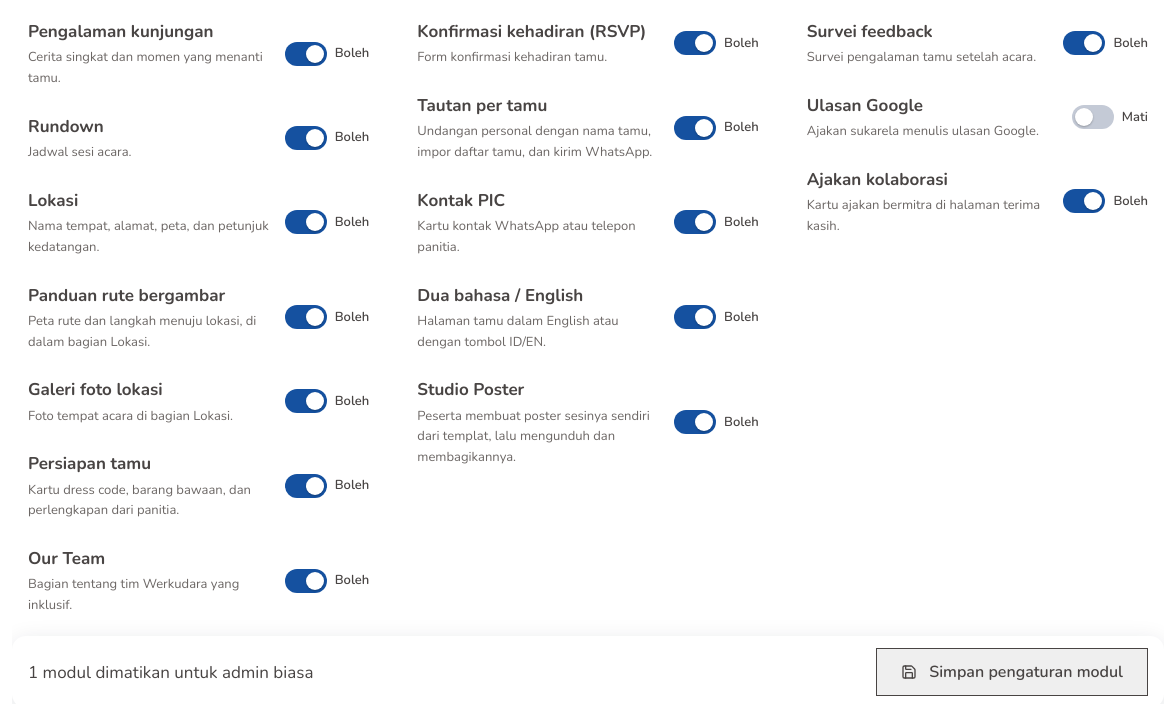
lets the super admin switch modules off and saves the list
(page scrolled)
Check: the switch named "Ulasan Google boleh dipakai admin" is not checked, box [1072, 105, 1114, 129]
Check: the button "Simpan pengaturan modul" is disabled, box [876, 648, 1148, 696]
Click the switch named "Our Team boleh dipakai admin": (306, 581) [285, 569, 327, 593]
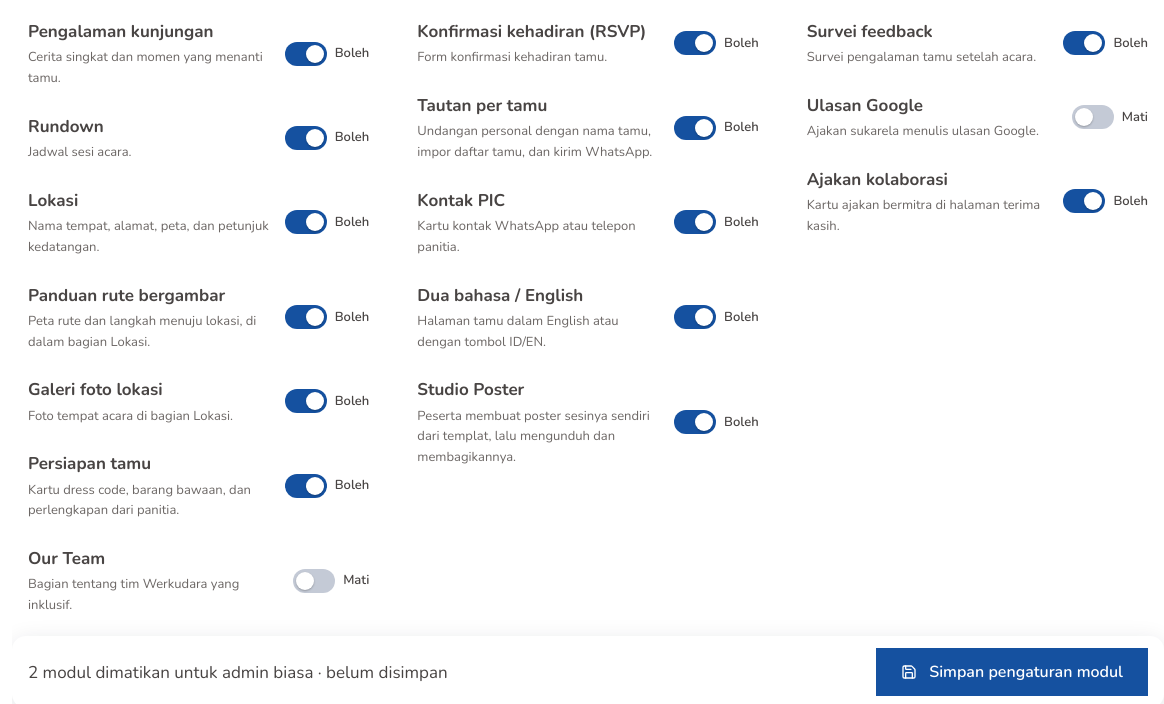
Check: the button "Simpan pengaturan modul" is enabled
Click the button "Simpan pengaturan modul": (1012, 672) [876, 648, 1148, 696]
(page scrolled)
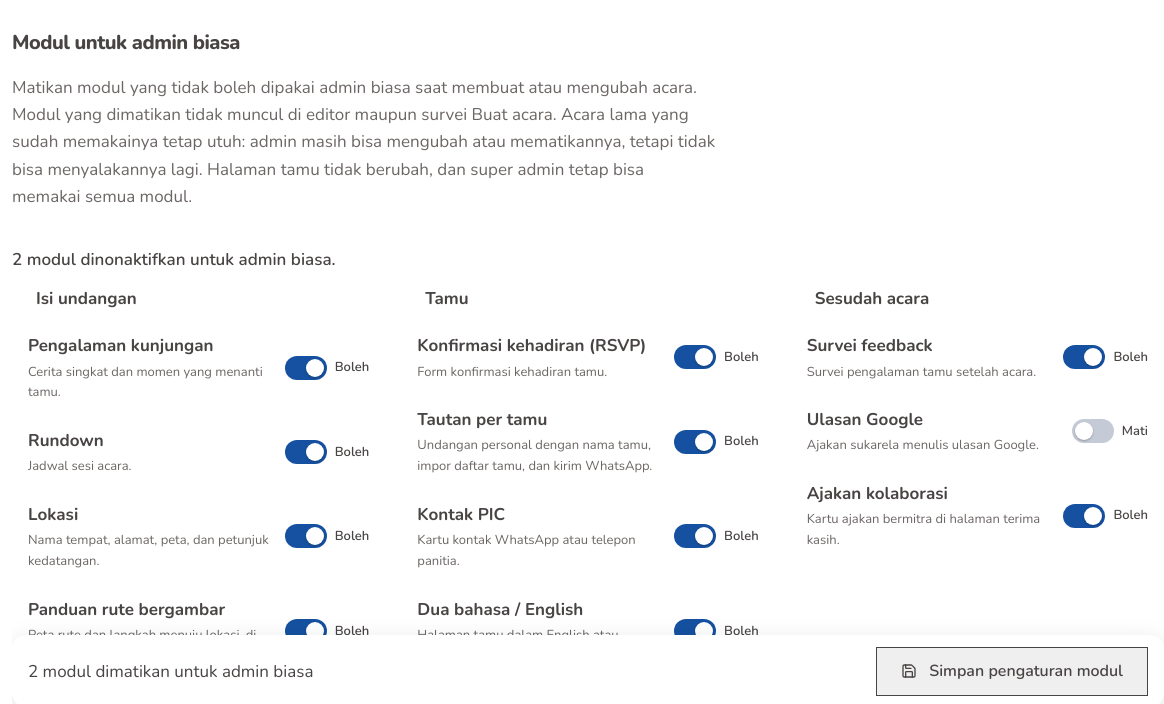
Check: the text "2 modul dinonaktifkan untuk admin biasa." is shown, box [12, 248, 336, 271]
